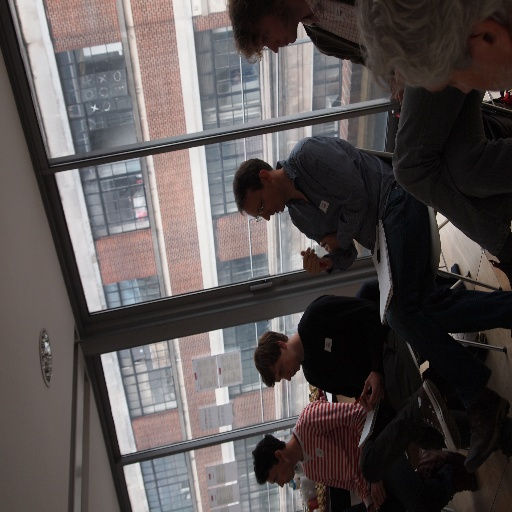hand: (358, 369, 381, 409), (392, 64, 405, 108), (369, 480, 387, 511), (299, 248, 320, 273), (318, 234, 340, 257)
